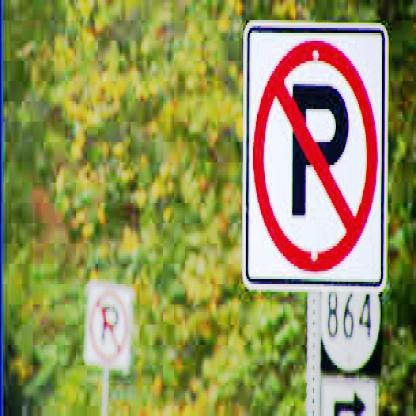No parking: (249, 37, 377, 281), (86, 289, 127, 370)
